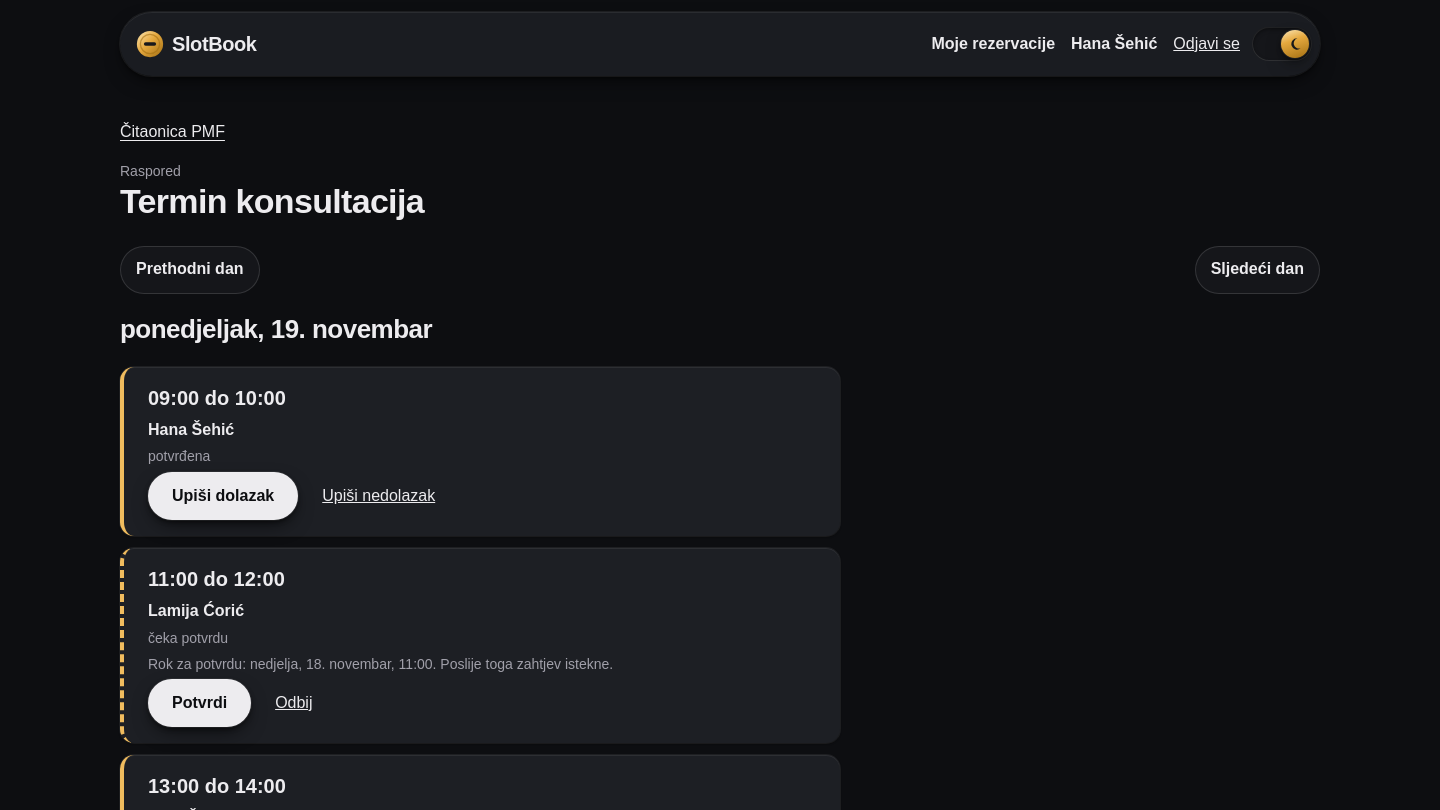
pregled › sljedeći dan je novi upit, a prazan dan kaže da nema rezervacija
This screenshot has width=1440, height=810.
Click the button "Sljedeći dan" at (1257, 270), box x1=1195 y1=246 x2=1320 y2=294
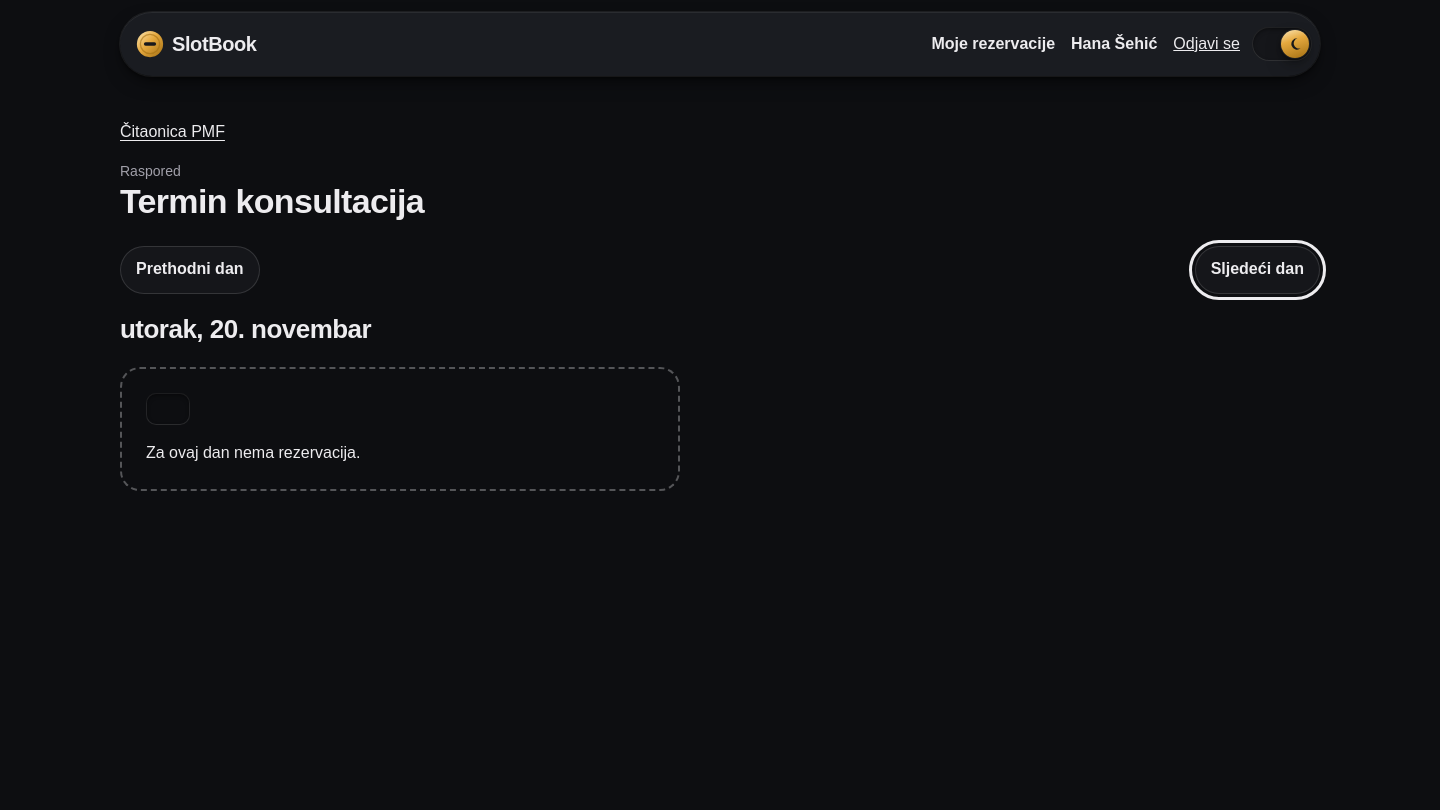
Result: the text "Za ovaj dan nema rezervacija." is shown at x1=120 y1=367 x2=680 y2=491
Result: the heading "utorak, 20. novembar" is shown at x1=120 y1=314 x2=371 y2=344
